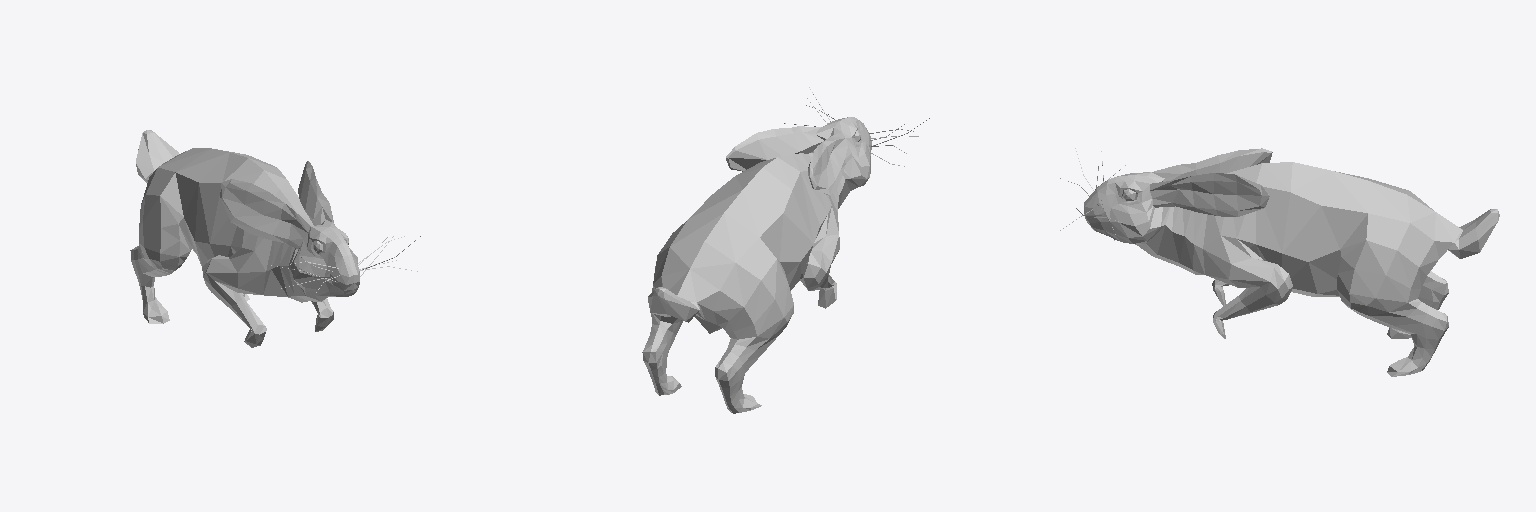
Rendered from rabbit_1.obj.
3 renders of one model, left to right at view 1: azimuth 30°, elevation 25°; view 2: azimuth 150°, elevation 25°; view 3: azimuth 270°, elevation 25°, orthographic.
Visible parts, largest first — view 1: Rabbit_Cylinder; view 2: Rabbit_Cylinder; view 3: Rabbit_Cylinder.
Part boxes in pixels (x1,y1,x2,y2): Rabbit_Cylinder: (130,130,420,347); Rabbit_Cylinder: (642,87,929,413); Rabbit_Cylinder: (1060,148,1499,376).
Bounding box in the file's own units: 6.99 × 10.25 × 20.81.